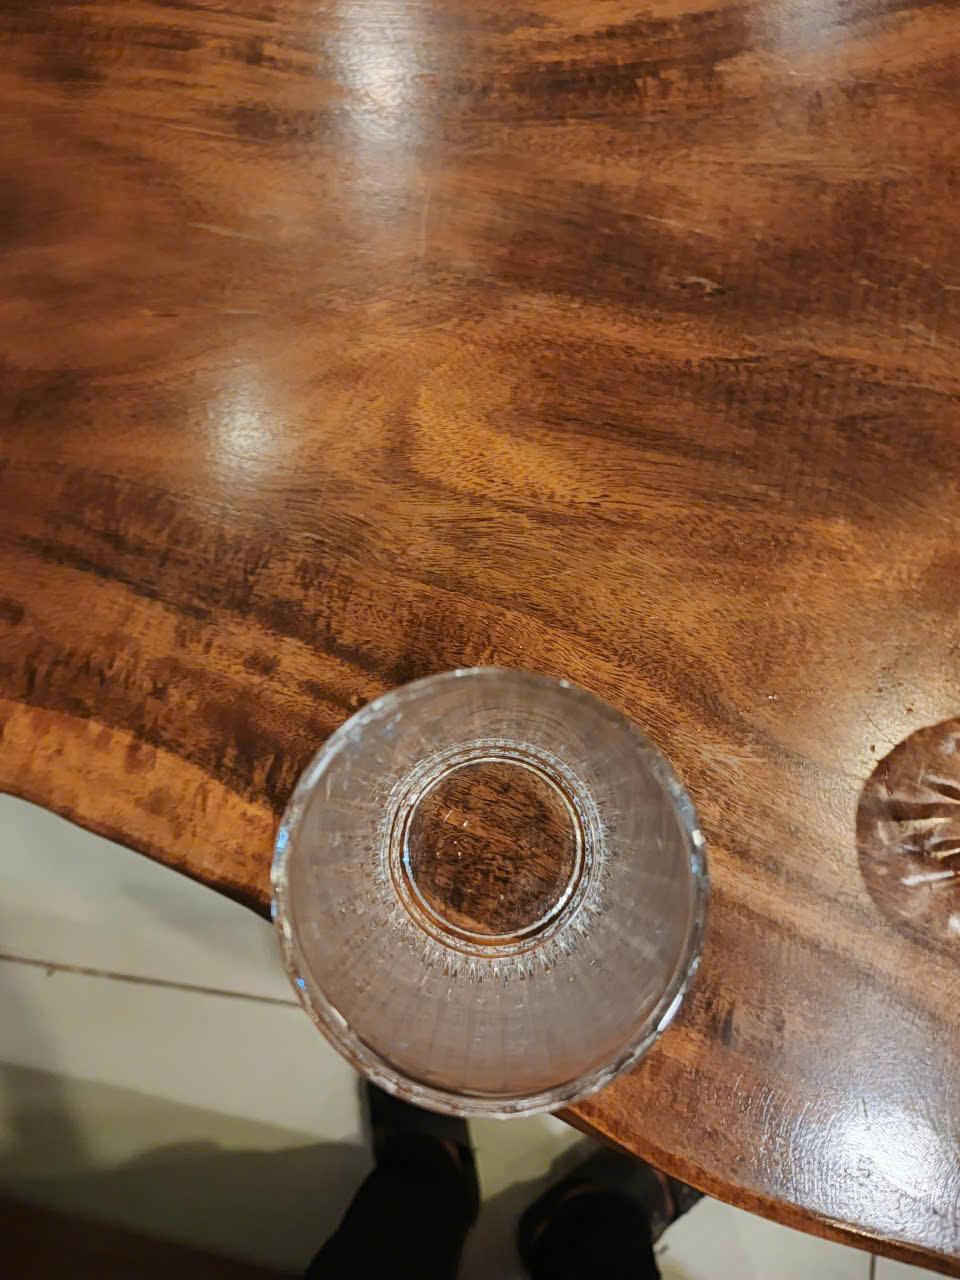Vo co: (265, 668, 708, 1117)
